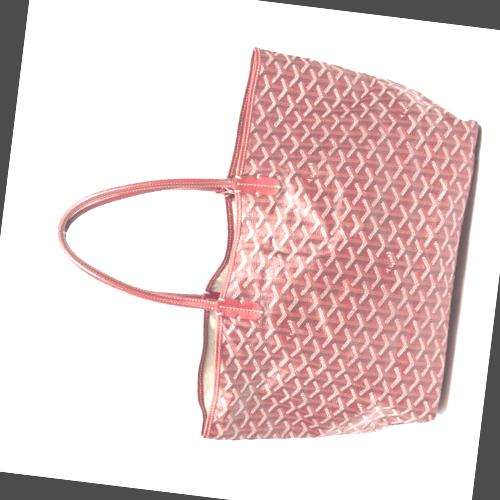GOYARD: (206, 48, 485, 466)
